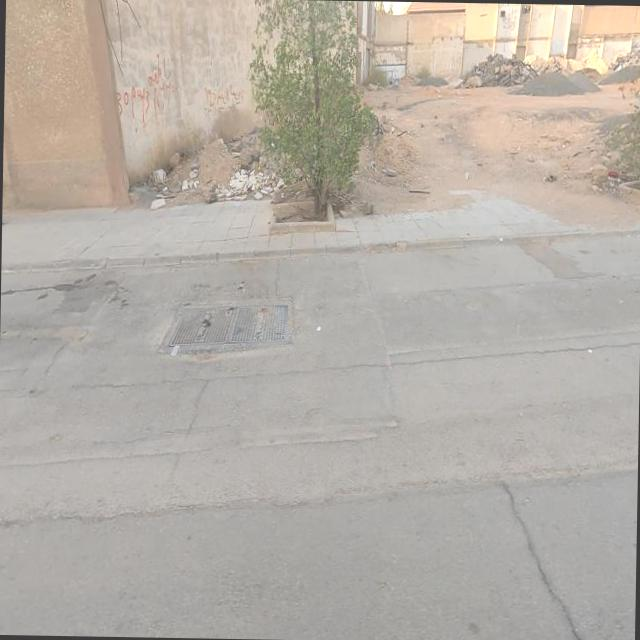debris: (123, 60, 363, 278), (69, 0, 230, 170), (103, 122, 217, 252), (170, 36, 283, 146)
